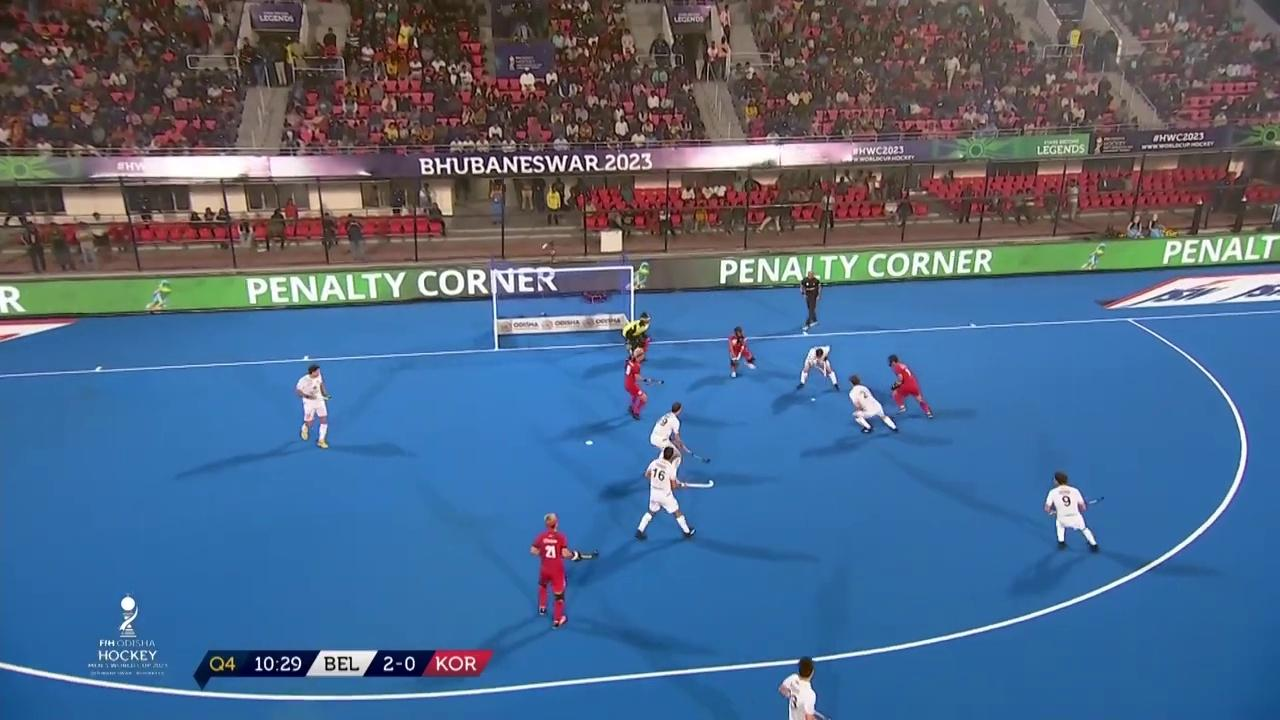ball: (805, 390, 820, 405)
